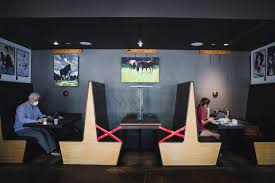Good: (13, 92, 222, 141)
